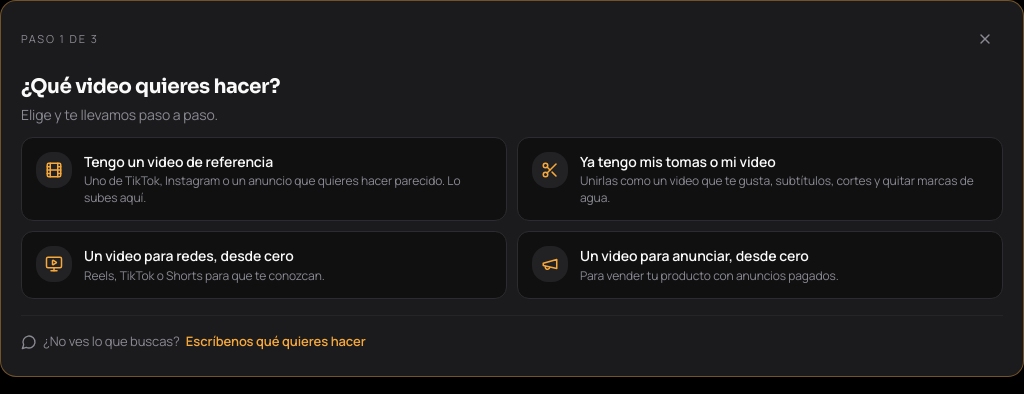
Test: Guía «¿Qué video quieres hacer?» › «Tengo un video de referencia» → Atrás vuelve a la primera pregunta
The width and height of the screenshot is (1024, 394).
Click the button "Tengo un video de referencia".
click(264, 179)  # box [21,137,507,221]
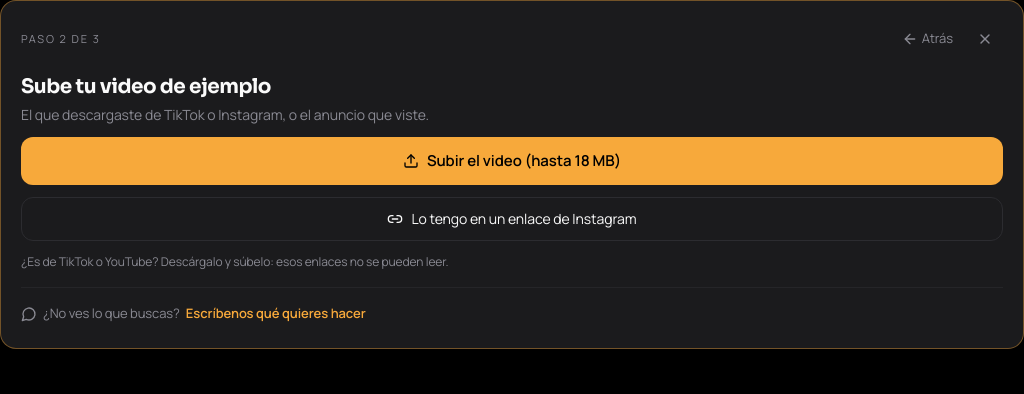
Click the button "Atrás".
click(927, 39)  # box [892,21,963,57]
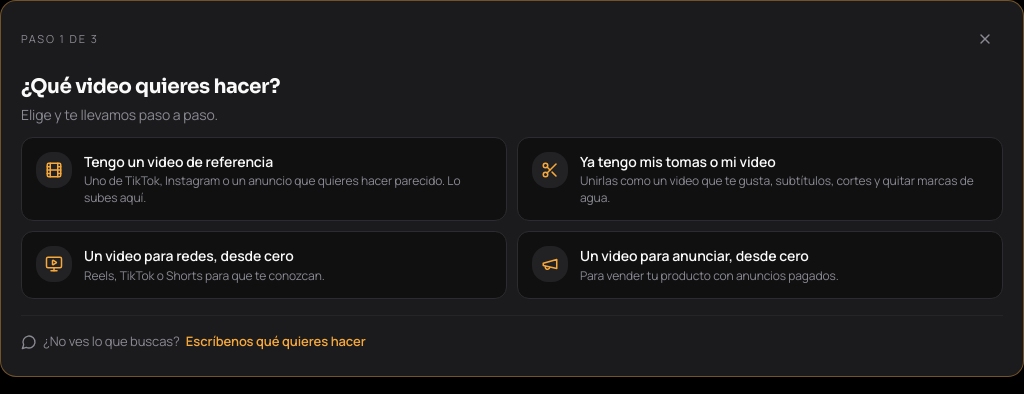
Check: the heading "¿Qué video quieres hacer?" is shown, box [21,74,280,99]
